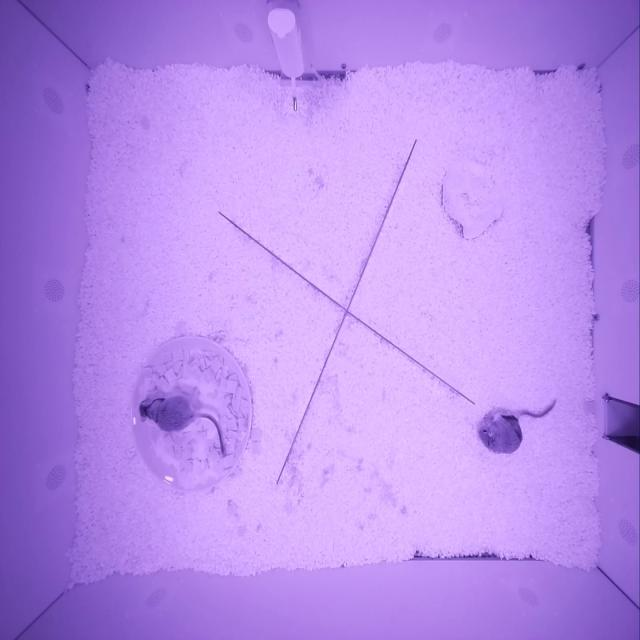adult_back: (479, 414, 523, 455)
adult_front: (139, 395, 197, 433)
